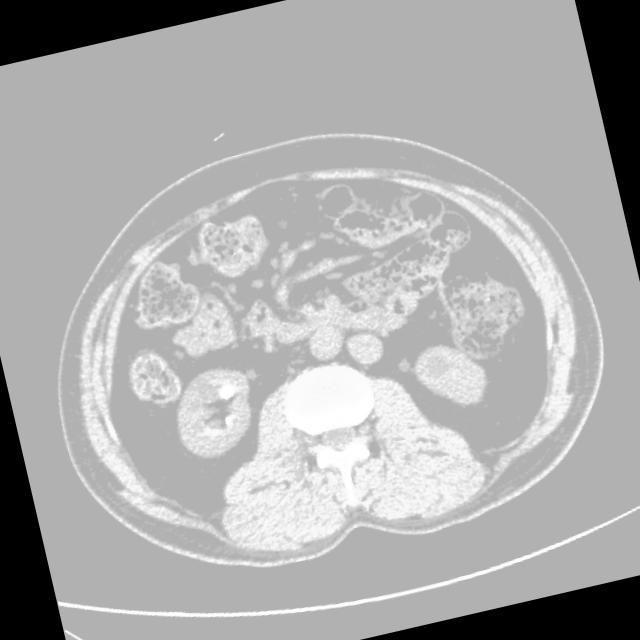STONE: (128, 191, 586, 494)
